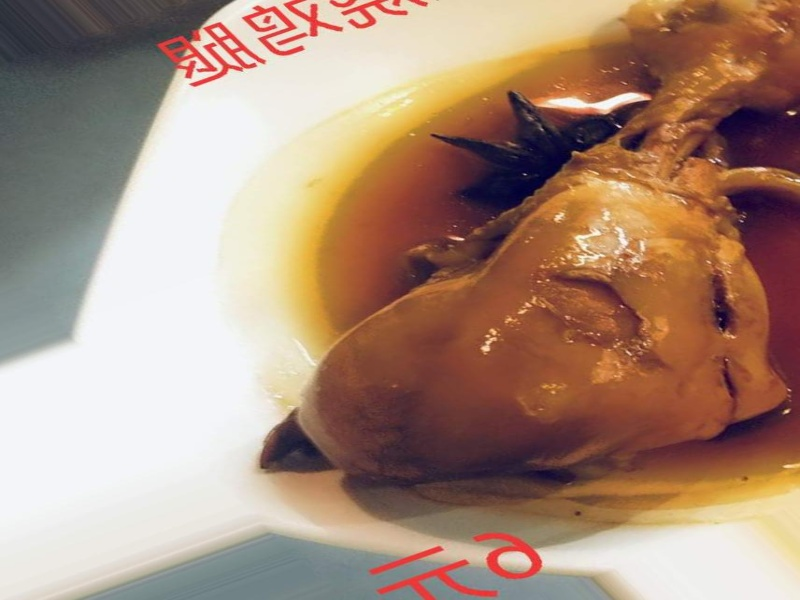chicken: (303, 55, 800, 506)
